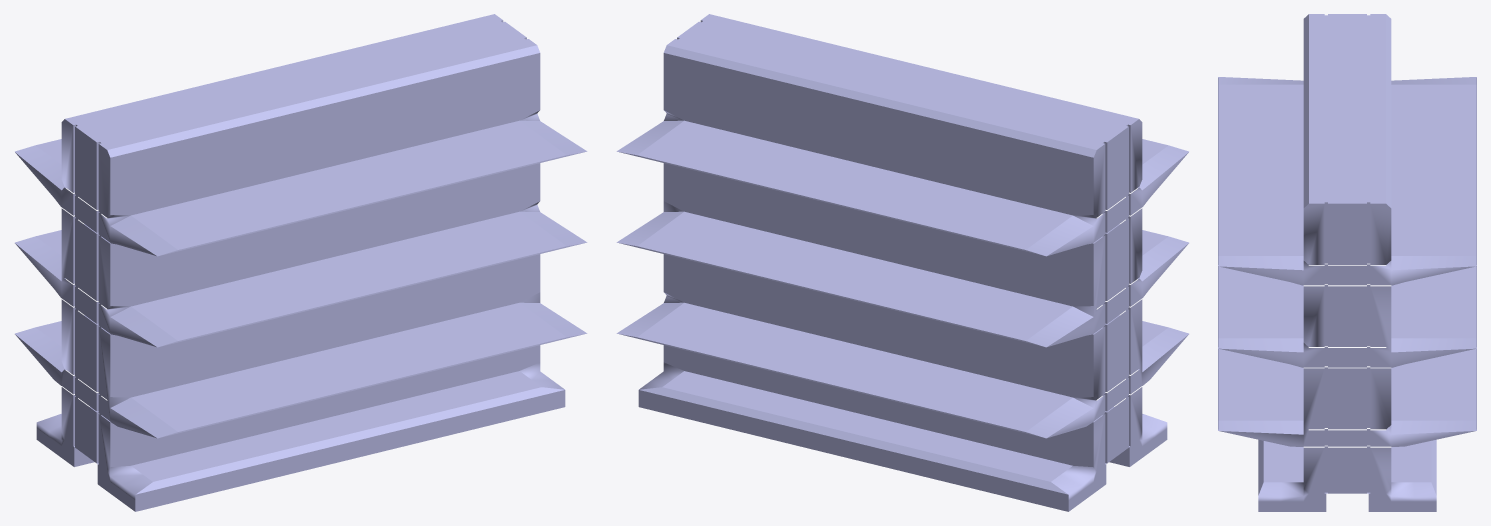
Rendered from shelf-marker.glb.
3 renders of one model, left to right at view 1: azimuth 30°, elevation 25°; view 2: azimuth 150°, elevation 25°; view 3: azimuth 270°, elevation 25°, orthographic. The views are drawn at different scales.
Parts seen in each view (by area): view 1: Box001; view 2: Box001; view 3: Box001.
Boxes of the visible parts, x1,y1,x2,y2 form: Box001: (15, 14, 587, 511); Box001: (616, 14, 1188, 511); Box001: (1218, 14, 1476, 511).
Size of the model in its own units: 0.5024 by 0.381 by 0.2897.
